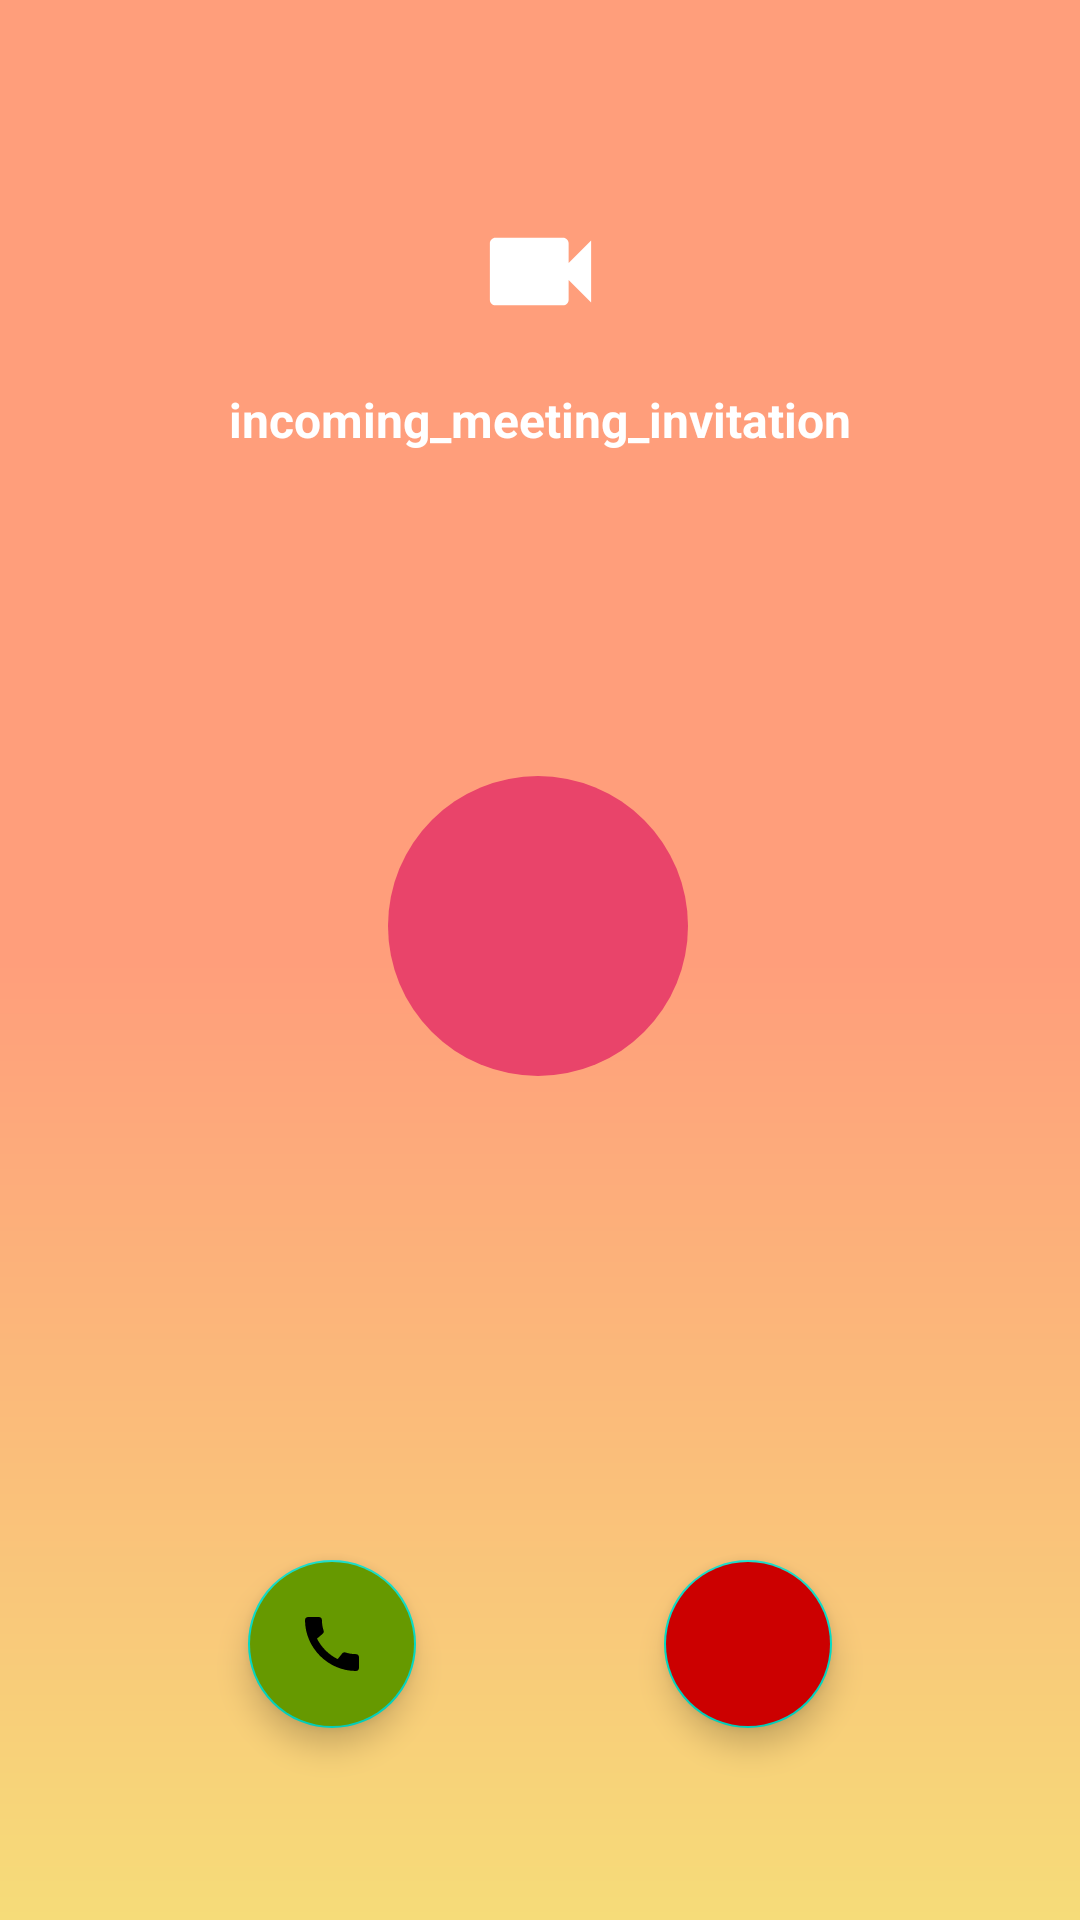

Icon click points for this 1080px×1920px phone screenshot, format (x=x, y=y):
call: (x=332, y=1644)
videocam: (x=540, y=271)
